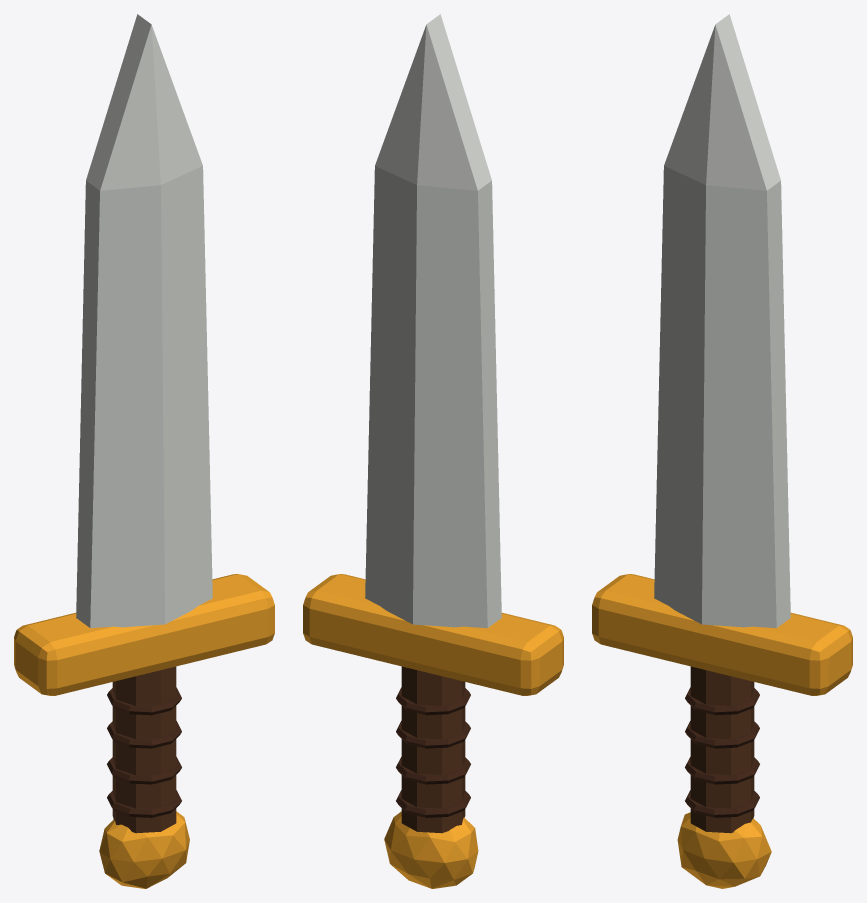
Rendered from sword.glb.
3 renders of one model, left to right at view 1: azimuth 30°, elevation 25°; view 2: azimuth 150°, elevation 25°; view 3: azimuth 330°, elevation 25°, orthographic.
Visible parts, largest first — view 1: Sword broad faceted blade, Sword gold guard, Sword leather grip, Sword pommel, Sword grip wrap, Sword grip wrap.003, Sword grip wrap.001, Sword grip wrap.002; view 2: Sword broad faceted blade, Sword gold guard, Sword leather grip, Sword pommel, Sword grip wrap, Sword grip wrap.003, Sword grip wrap.001, Sword grip wrap.002; view 3: Sword broad faceted blade, Sword gold guard, Sword leather grip, Sword pommel, Sword grip wrap, Sword grip wrap.003, Sword grip wrap.001, Sword grip wrap.002.
Boxes of the visible parts, <box> form: Sword broad faceted blade: <box>76,14,212,628</box>; Sword gold guard: <box>14,574,274,695</box>; Sword leather grip: <box>112,666,176,833</box>; Sword pommel: <box>99,811,189,888</box>; Sword grip wrap: <box>107,790,181,817</box>; Sword grip wrap.003: <box>107,687,181,715</box>; Sword grip wrap.001: <box>107,757,181,784</box>; Sword grip wrap.002: <box>107,721,181,748</box>; Sword broad faceted blade: <box>365,14,501,628</box>; Sword gold guard: <box>303,574,563,695</box>; Sword leather grip: <box>401,666,465,833</box>; Sword pommel: <box>384,811,478,888</box>; Sword grip wrap: <box>396,790,470,817</box>; Sword grip wrap.003: <box>396,687,470,715</box>; Sword grip wrap.001: <box>396,757,470,784</box>; Sword grip wrap.002: <box>396,721,470,748</box>; Sword broad faceted blade: <box>654,14,790,628</box>; Sword gold guard: <box>592,574,852,695</box>; Sword leather grip: <box>690,666,754,833</box>; Sword pommel: <box>677,812,771,888</box>; Sword grip wrap: <box>685,790,759,817</box>; Sword grip wrap.003: <box>685,687,759,715</box>; Sword grip wrap.001: <box>685,757,759,784</box>; Sword grip wrap.002: <box>685,721,759,748</box>.
Size of the model in its own units: 0.48 by 1.69 by 0.146.
